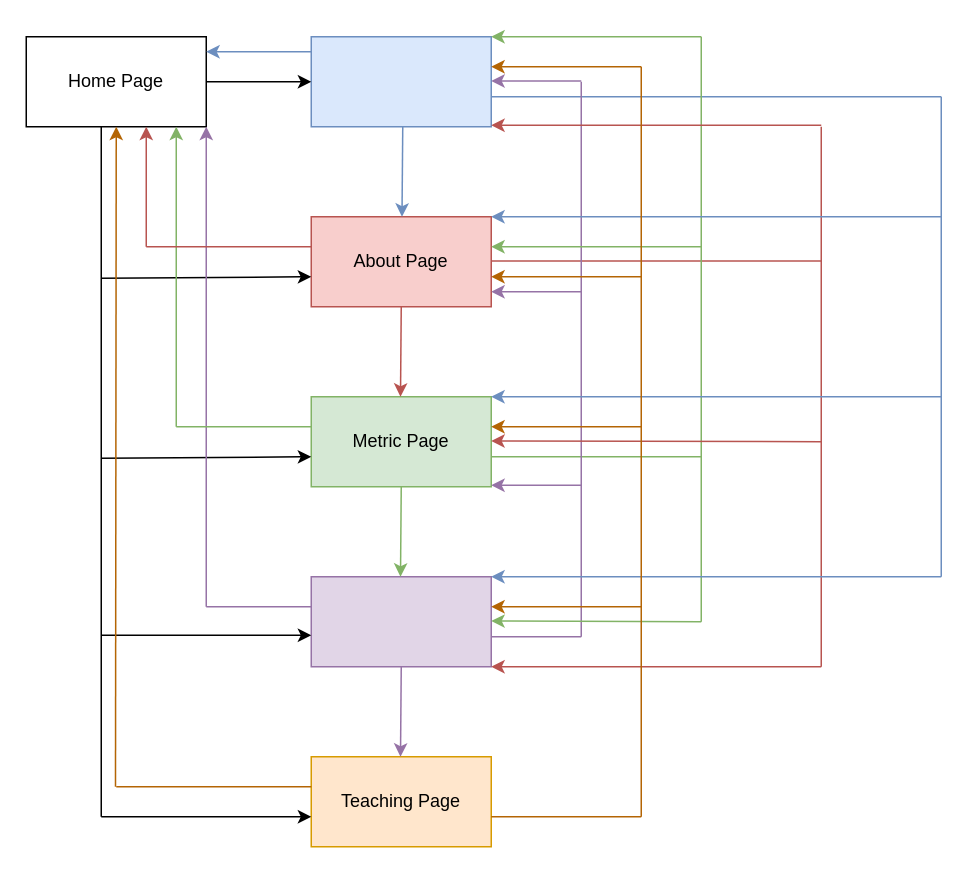
Some shapes in this 980 by 873 pixel diagram are drawn without their labels. Each missing label, with the centre of its shape:
Contact Page: pixel 400 81
Imperial Page: pixel 400 621
